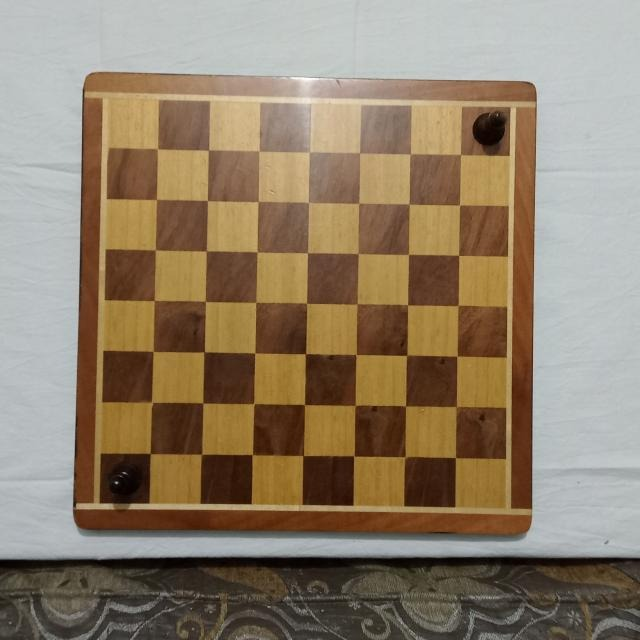black-pawn: (107, 460, 142, 498), (472, 110, 508, 146)
